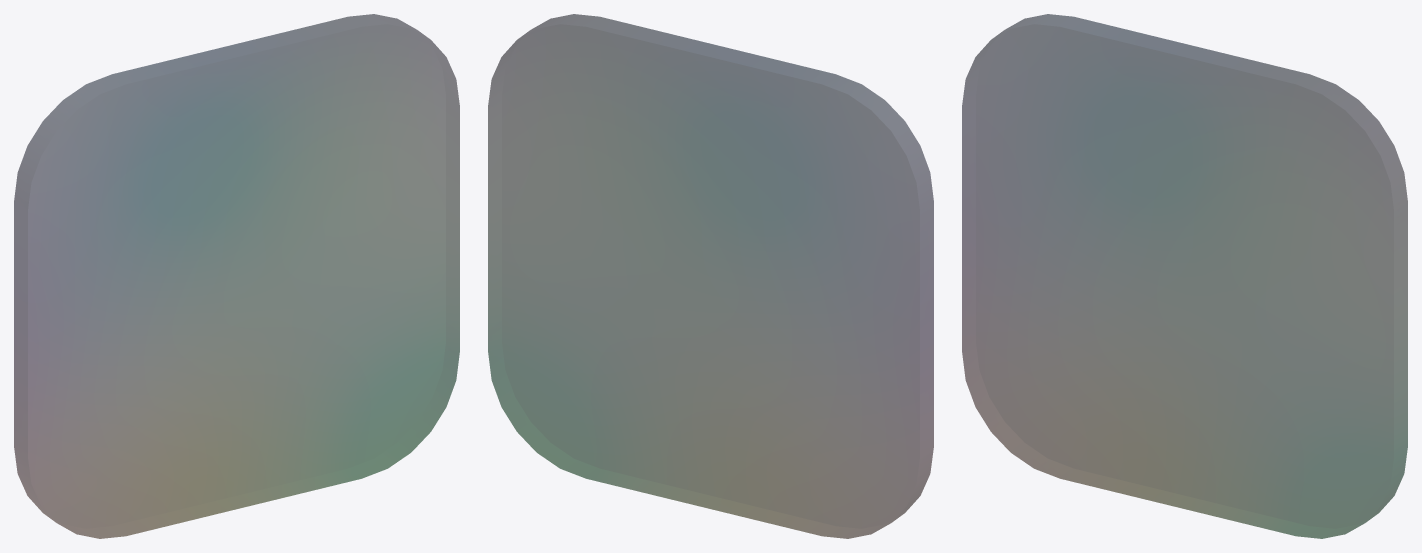
Rendered from motn_box.gltf.
The picture shows the model from 3 angles, left to right: view 1: azimuth 30°, elevation 25°; view 2: azimuth 150°, elevation 25°; view 3: azimuth 330°, elevation 25°; orthographic projection.
Parts seen in each view (by area): view 1: motnAppBox; view 2: motnAppBox; view 3: motnAppBox.
Part boxes in pixels (bbox=[...]): motnAppBox: bbox=[14, 14, 459, 538]; motnAppBox: bbox=[488, 14, 933, 538]; motnAppBox: bbox=[962, 14, 1407, 538].
Size of the model in its own units: 1.99 by 1.99 by 0.1103.
Materials: 1 (1 with a texture image).
